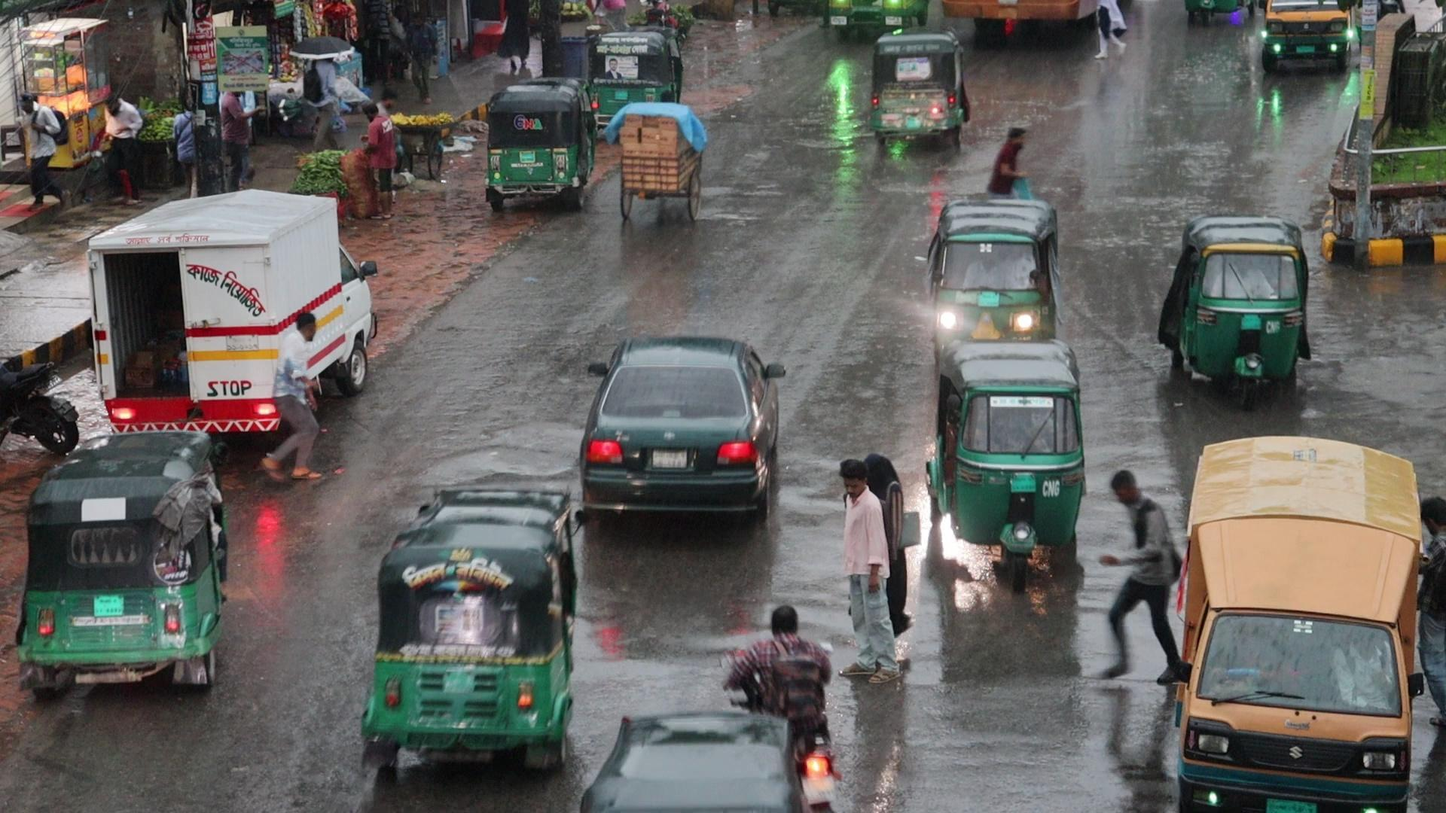Car: (577, 332, 787, 527)
Truck: (1179, 430, 1422, 813)
